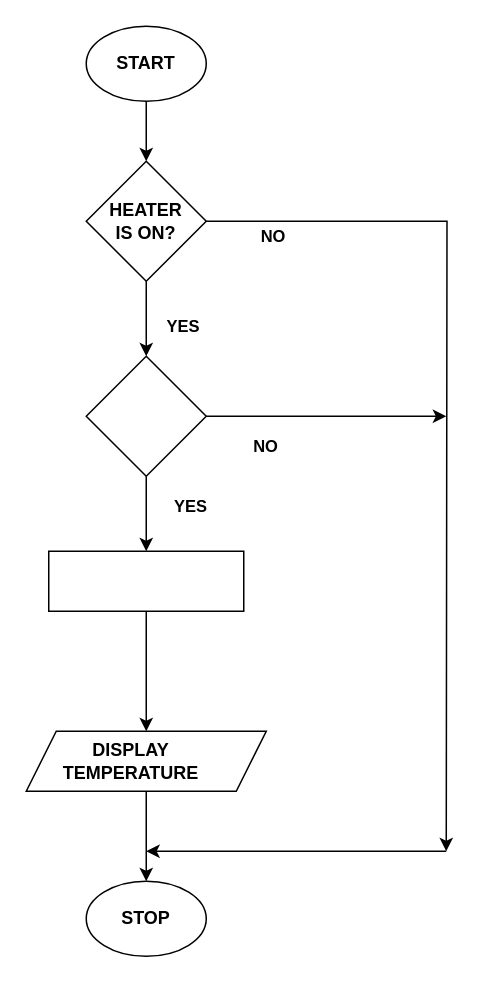
The diagram is 486 pixels wide and 983 high, and some of its shapes have lost their labels. The centre of each missing label's shape, as x and y in pixels:
"PERSON IS SEATED?" goes at (x=145, y=415).
"SET TEMPERATURE ACCORDING TO ADC." goes at (x=145, y=580).
